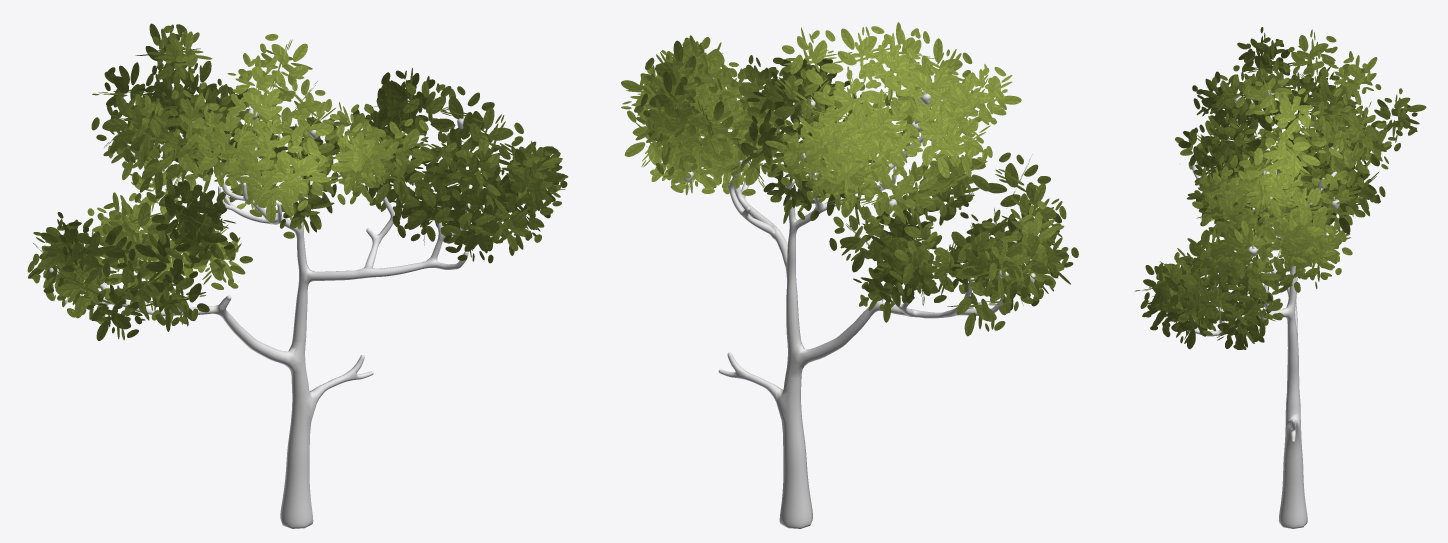
The model's file is arvore_7.fbx.
3 renders of one model, left to right at view 1: azimuth 30°, elevation 25°; view 2: azimuth 150°, elevation 25°; view 3: azimuth 270°, elevation 25°, orthographic. The views are drawn at different scales.
Parts seen in each view (by area): view 1: copa_7, tronco_7; view 2: copa_7, tronco_7; view 3: copa_7, tronco_7.
Boxes of the visible parts, left/top/right/bottom form: copa_7: left=27, top=23, right=568, bottom=340; tronco_7: left=80, top=133, right=470, bottom=528; copa_7: left=621, top=22, right=1078, bottom=336; tronco_7: left=718, top=129, right=1006, bottom=528; copa_7: left=1134, top=27, right=1426, bottom=349; tronco_7: left=1192, top=125, right=1344, bottom=528.
Size of the model in its own units: 5448 by 5424 by 3389.
